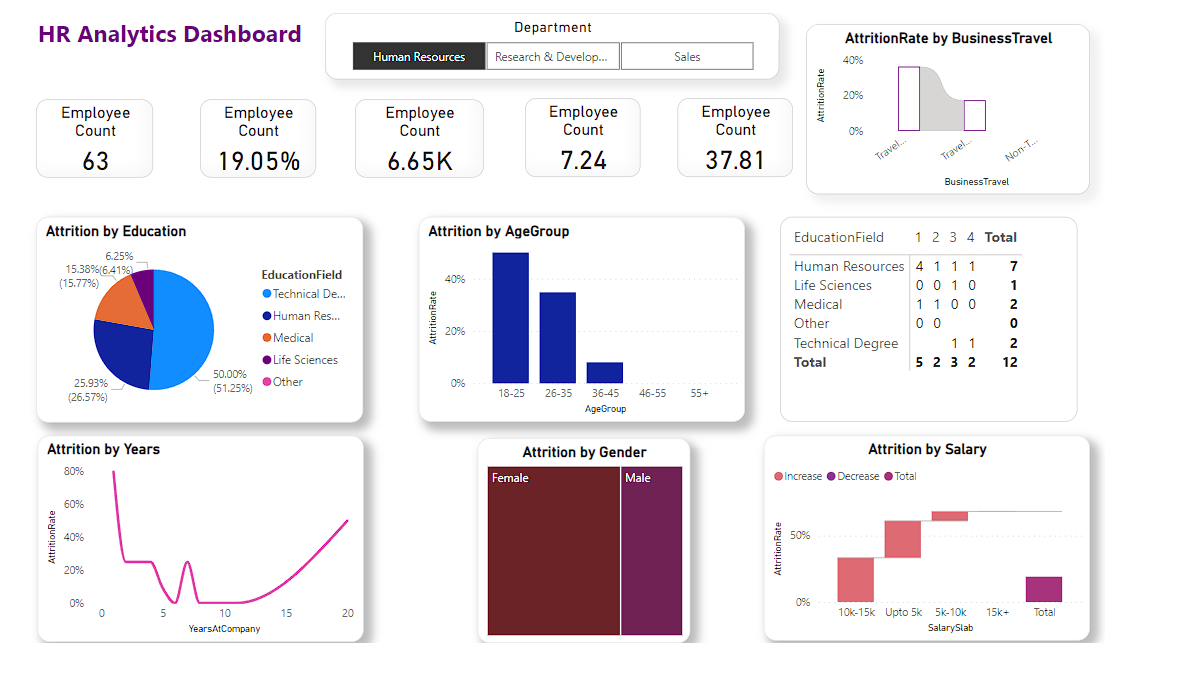

What the dashboard file says about the page in this screenshot:
{"tool":"powerbi","page":{"name":"Page 1","canvas":[1280,720],"ordinal":0},"visuals":[{"type":"card","title":"Employee Count","fields":{"Values":["Count(HR_Analytics (1).EmpID)"]},"box":[58.4,98.3,134,89.8],"z":0},{"type":"card","title":"Employee Count","fields":{"Values":["Avg(HR_Analytics (1).MonthlyIncome)"]},"box":[423.3,98.3,146.8,89.8],"z":3},{"type":"card","title":"Employee Count","fields":{"Values":["HR_Analytics (1).AttritionRate"]},"box":[245.2,98.3,132.6,89.8],"z":4},{"type":"card","title":"Employee Count","fields":{"Values":["Avg(HR_Analytics (1).Age)"]},"box":[792.1,97.8,132,90.5],"z":5},{"type":"card","title":"Employee Count","fields":{"Values":["Avg(HR_Analytics (1).YearsAtCompany)"]},"box":[617.3,97.8,132,90.5],"z":6},{"type":"pieChart","title":"Attrition by Education","fields":{"Y":["HR_Analytics (1).AttritionRate"],"Category":["HR_Analytics (1).EducationField"]},"box":[58.4,232.3,373.4,235.2],"z":7},{"type":"clusteredColumnChart","title":"Attrition by AgeGroup","fields":{"Category":["HR_Analytics (1).AgeGroup"],"Y":["HR_Analytics (1).AttritionRate"]},"box":[496.3,232.2,372.8,234.7],"z":8},{"type":"lineChart","title":"Attrition by Years","fields":{"Category":["HR_Analytics (1).YearsAtCompany"],"Y":["HR_Analytics (1).AttritionRate"]},"box":[59.9,482.9,372.8,235.9],"z":9},{"type":"pivotTable","fields":{"Columns":["HR_Analytics (1).JobSatisfaction"],"Rows":["HR_Analytics (1).EducationField"],"Values":["Sum(HR_Analytics (1).AttritionCount)"]},"box":[908.2,232.2,339.8,234.7],"z":10},{"type":"waterfallChart","title":"Attrition by Salary","fields":{"Category":["HR_Analytics (1).SalarySlab"],"Y":["HR_Analytics (1).AttritionRate"]},"box":[889.9,482.9,372.8,234.7],"z":11},{"type":"treemap","title":"Attrition by Gender","fields":{"Group":["HR_Analytics (1).Gender"],"Values":["HR_Analytics (1).AttritionRate"]},"box":[562.3,485.3,243.2,234.7],"z":12},{"type":"ribbonChart","fields":{"Category":["HR_Analytics (1).BusinessTravel"],"Y":["HR_Analytics (1).AttritionRate"]},"box":[938.8,13.4,323.9,194.4],"z":13},{"type":"slicer","title":"Department","fields":{"Values":["HR_Analytics (1).Department"]},"box":[388.7,0,519.5,75.8],"z":14},{"type":"textbox","box":[44,0,333.7,50.1],"z":15}]}

Visuals, with their boxes on the page's 1280x720 design canvas (x1, y1, x2, y2). These are canvas units, not pixel positions in the 1178x690 screenshot, which may show the page scaled, cropped or inside an application window:
"Employee Count" card: 58 98 192 188
"Employee Count" card: 423 98 570 188
"Employee Count" card: 245 98 378 188
"Employee Count" card: 792 98 924 188
"Employee Count" card: 617 98 749 188
"Attrition by Education" pieChart: 58 232 432 468
"Attrition by AgeGroup" clusteredColumnChart: 496 232 869 467
"Attrition by Years" lineChart: 60 483 433 719
pivotTable - HR_Analytics (1).JobSatisfaction x HR_Analytics (1).EducationField: 908 232 1248 467
"Attrition by Salary" waterfallChart: 890 483 1263 718
"Attrition by Gender" treemap: 562 485 806 720
ribbonChart - HR_Analytics (1).BusinessTravel x HR_Analytics (1).AttritionRate: 939 13 1263 208
"Department" slicer: 389 0 908 76
textbox: 44 0 378 50
